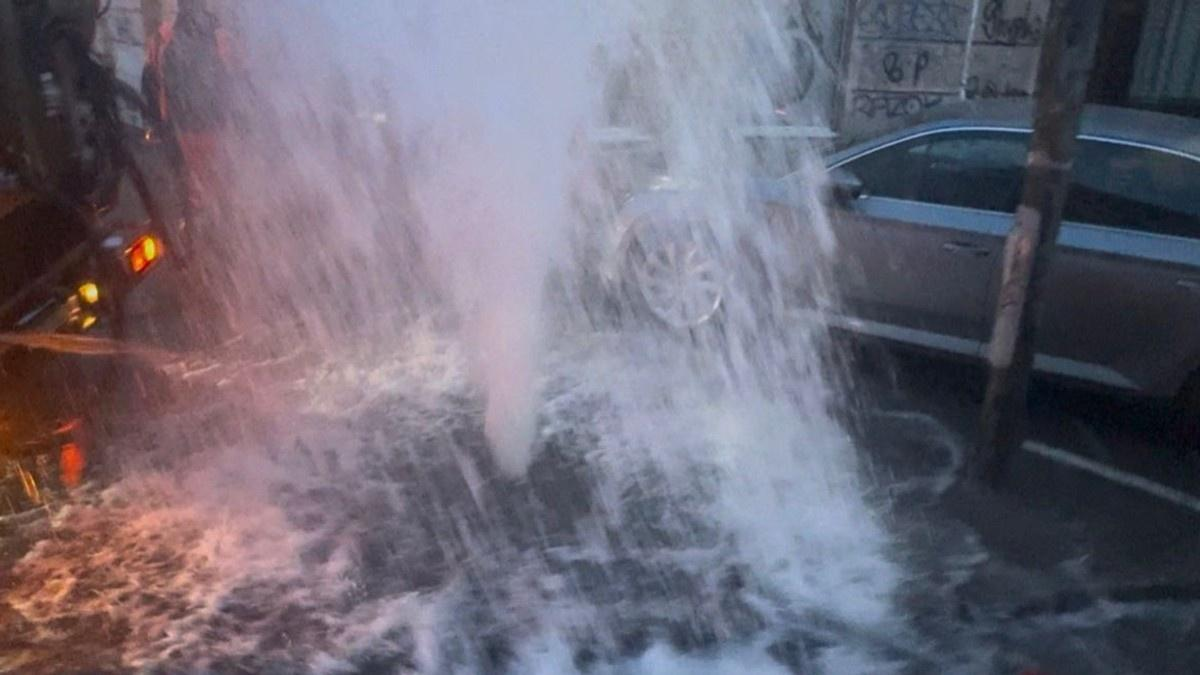pipe burst: (175, 0, 848, 482)
